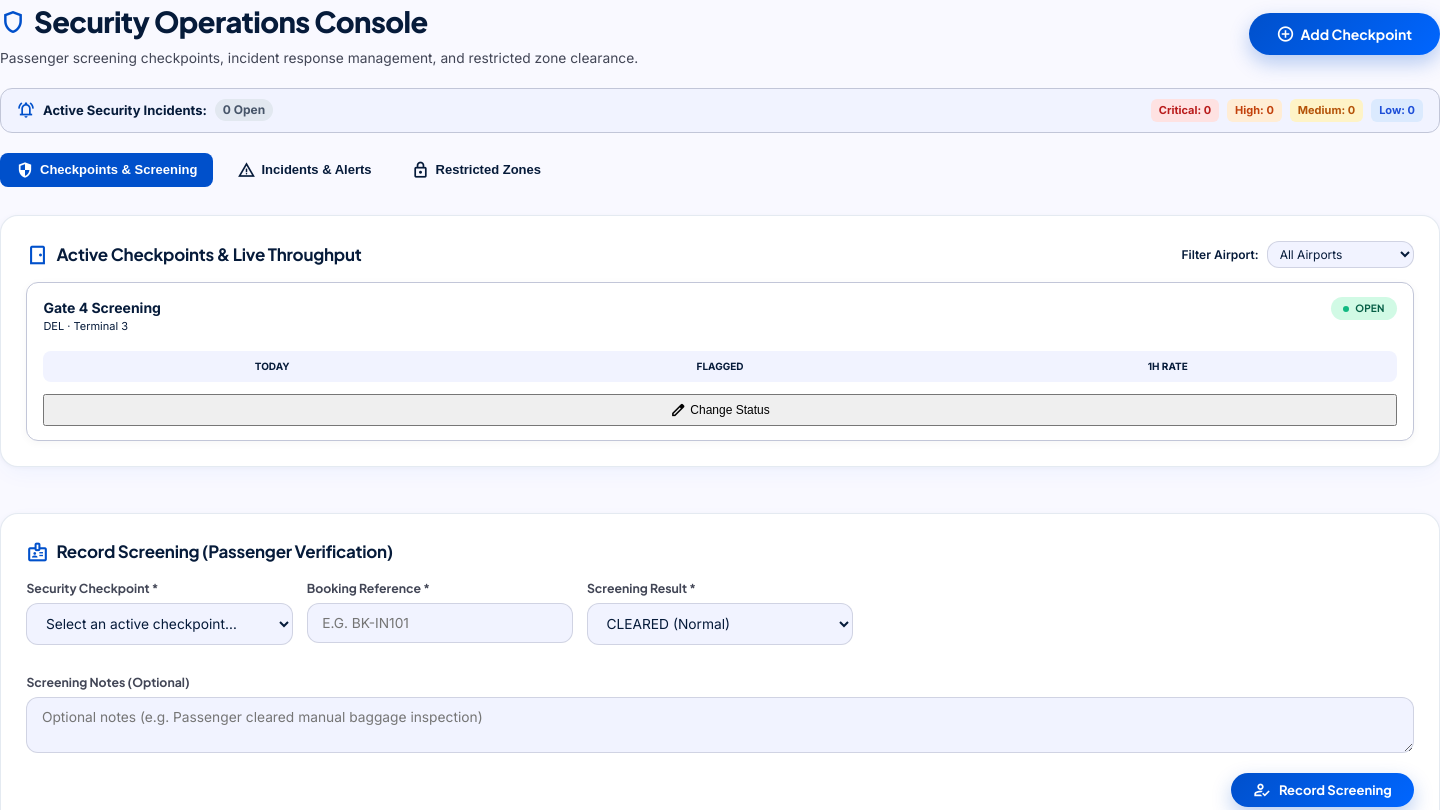
Test: Task 16c Part B: Admin Pages Dialogs & Action Buttons (RTL + jsdom) › 1. Security Console Modals (Add Checkpoint & Change Status) › opens and closes Add Checkpoint dialog upon clicking the button
Expected: the heading "Security Operations Console" is shown, [34,0,428,44]
Click "Add Checkpoint"
Click the button "Add Checkpoint" at (1344,34), box [1248,13,1439,55]
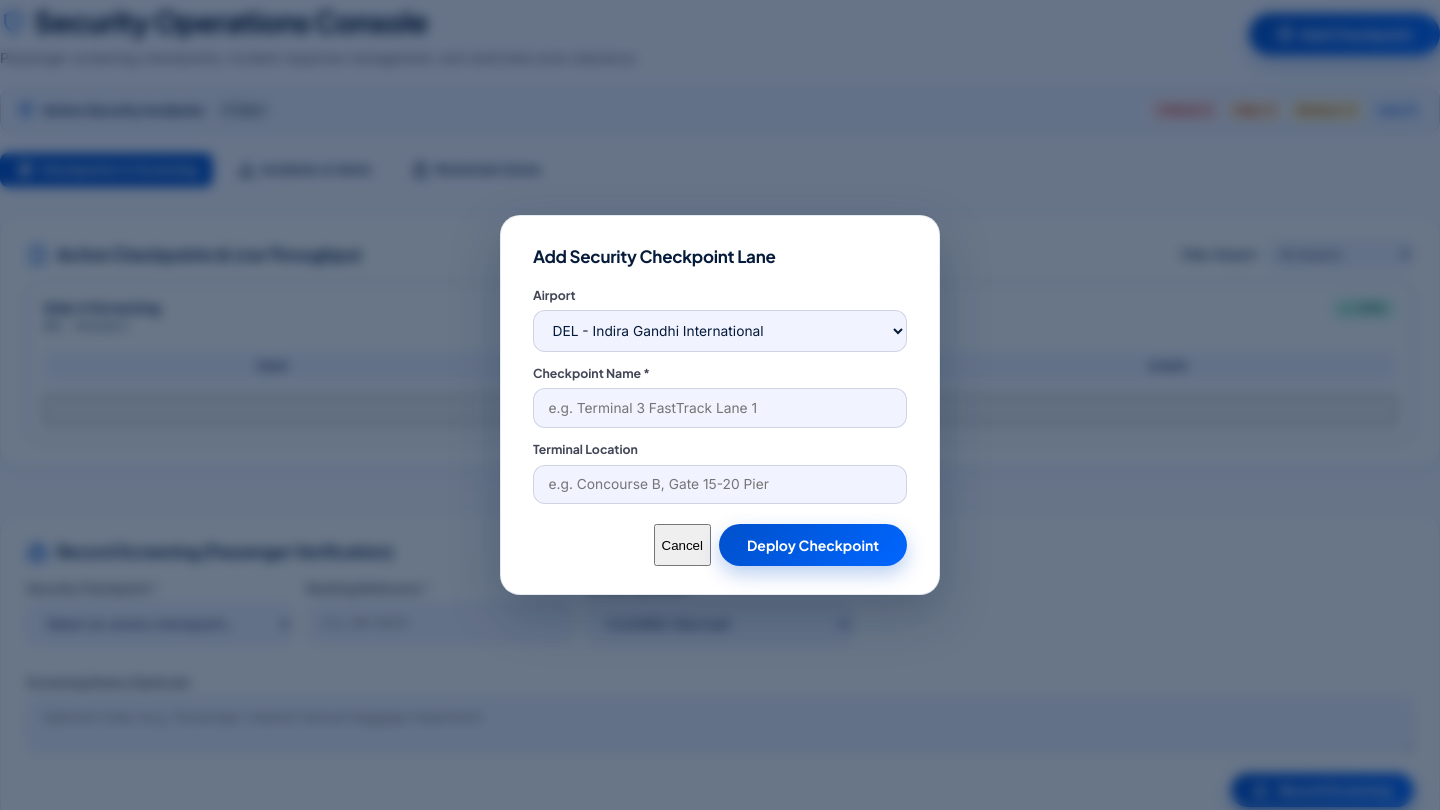
Expected: the heading "Add Security Checkpoint Lane" is shown, [533,245,776,267]
Expected: the text "Checkpoint Name *" is shown, [533,365,650,381]
Click Cancel on dialog (inside the modal overlay)
Click the button "Cancel" at (682,545), box [654,524,711,566]
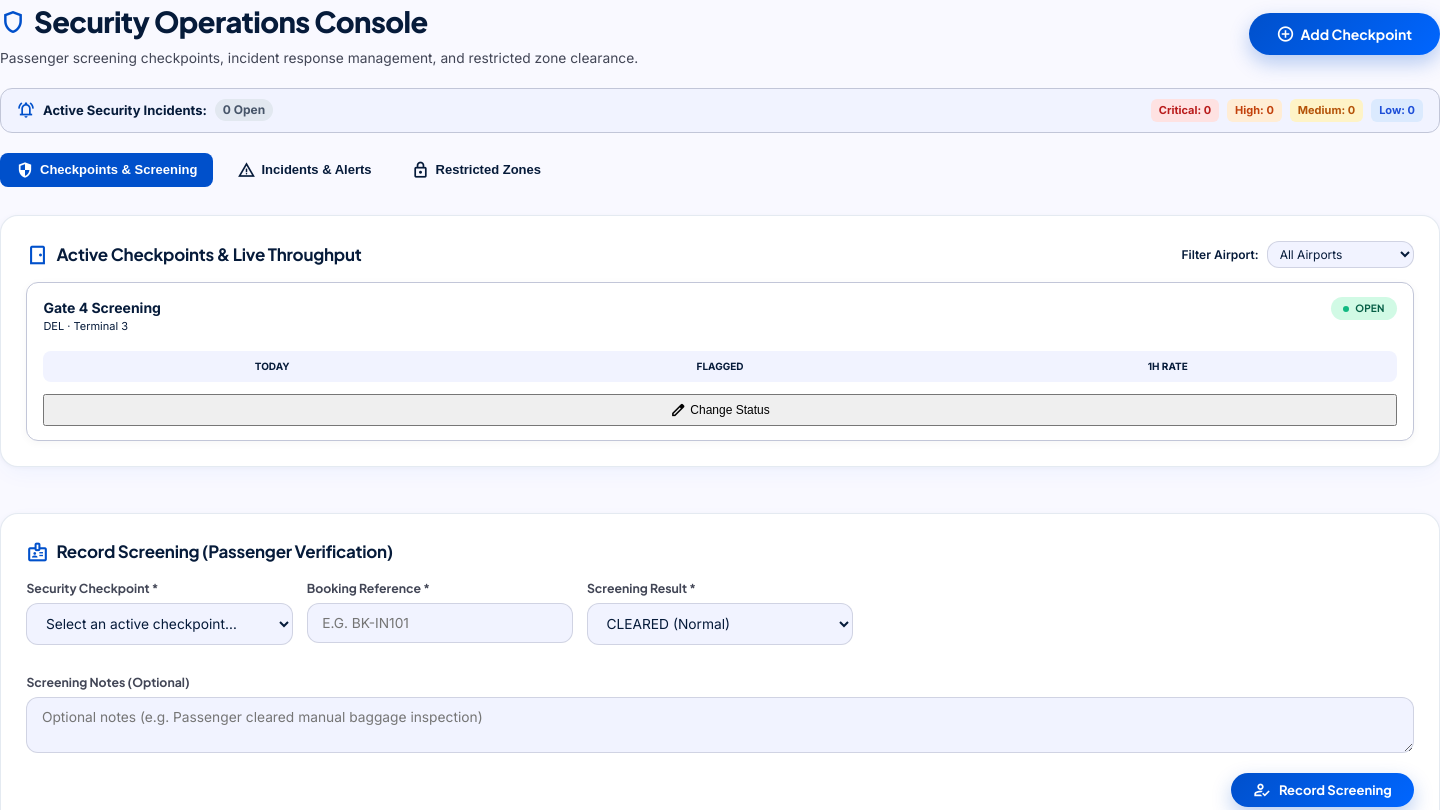
Expected: the heading "Add Security Checkpoint Lane" is gone
